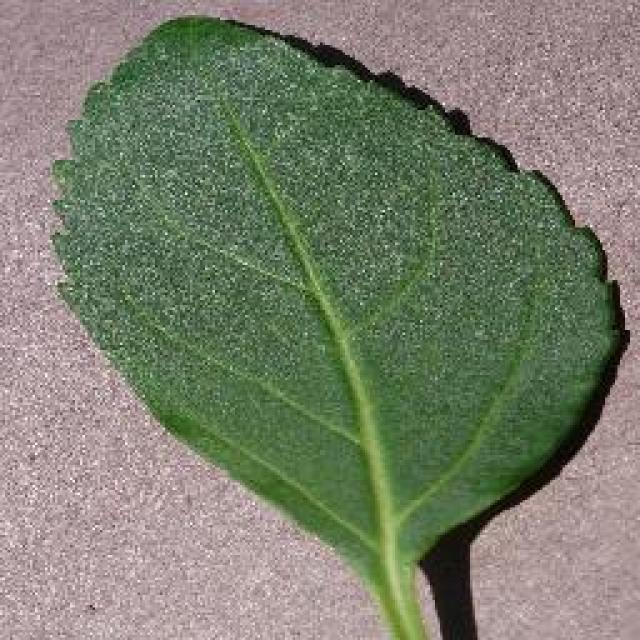Cher_including_sour_healthy: (81, 69, 556, 521)
